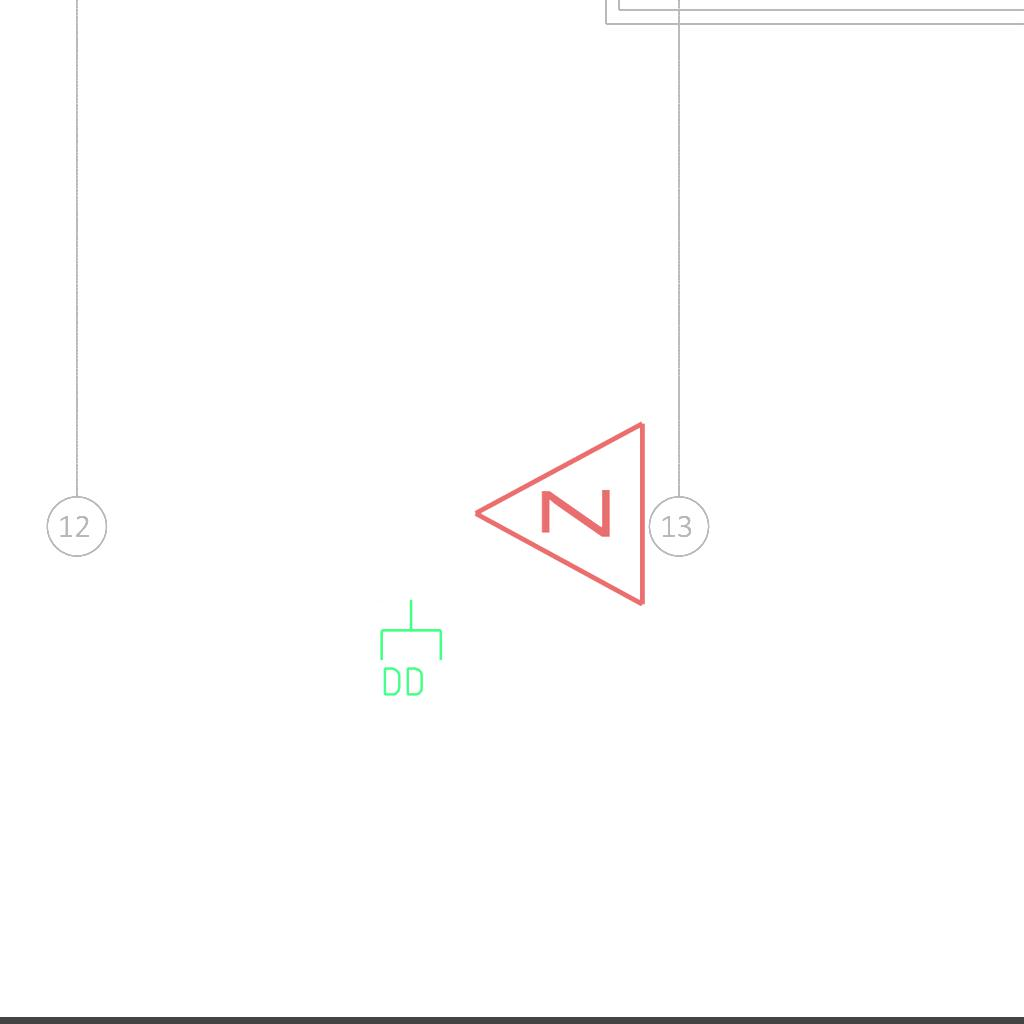Datenanschluss_zweifach: (376, 597, 445, 700)
Zimmersignalleuchte: (460, 418, 660, 614)
